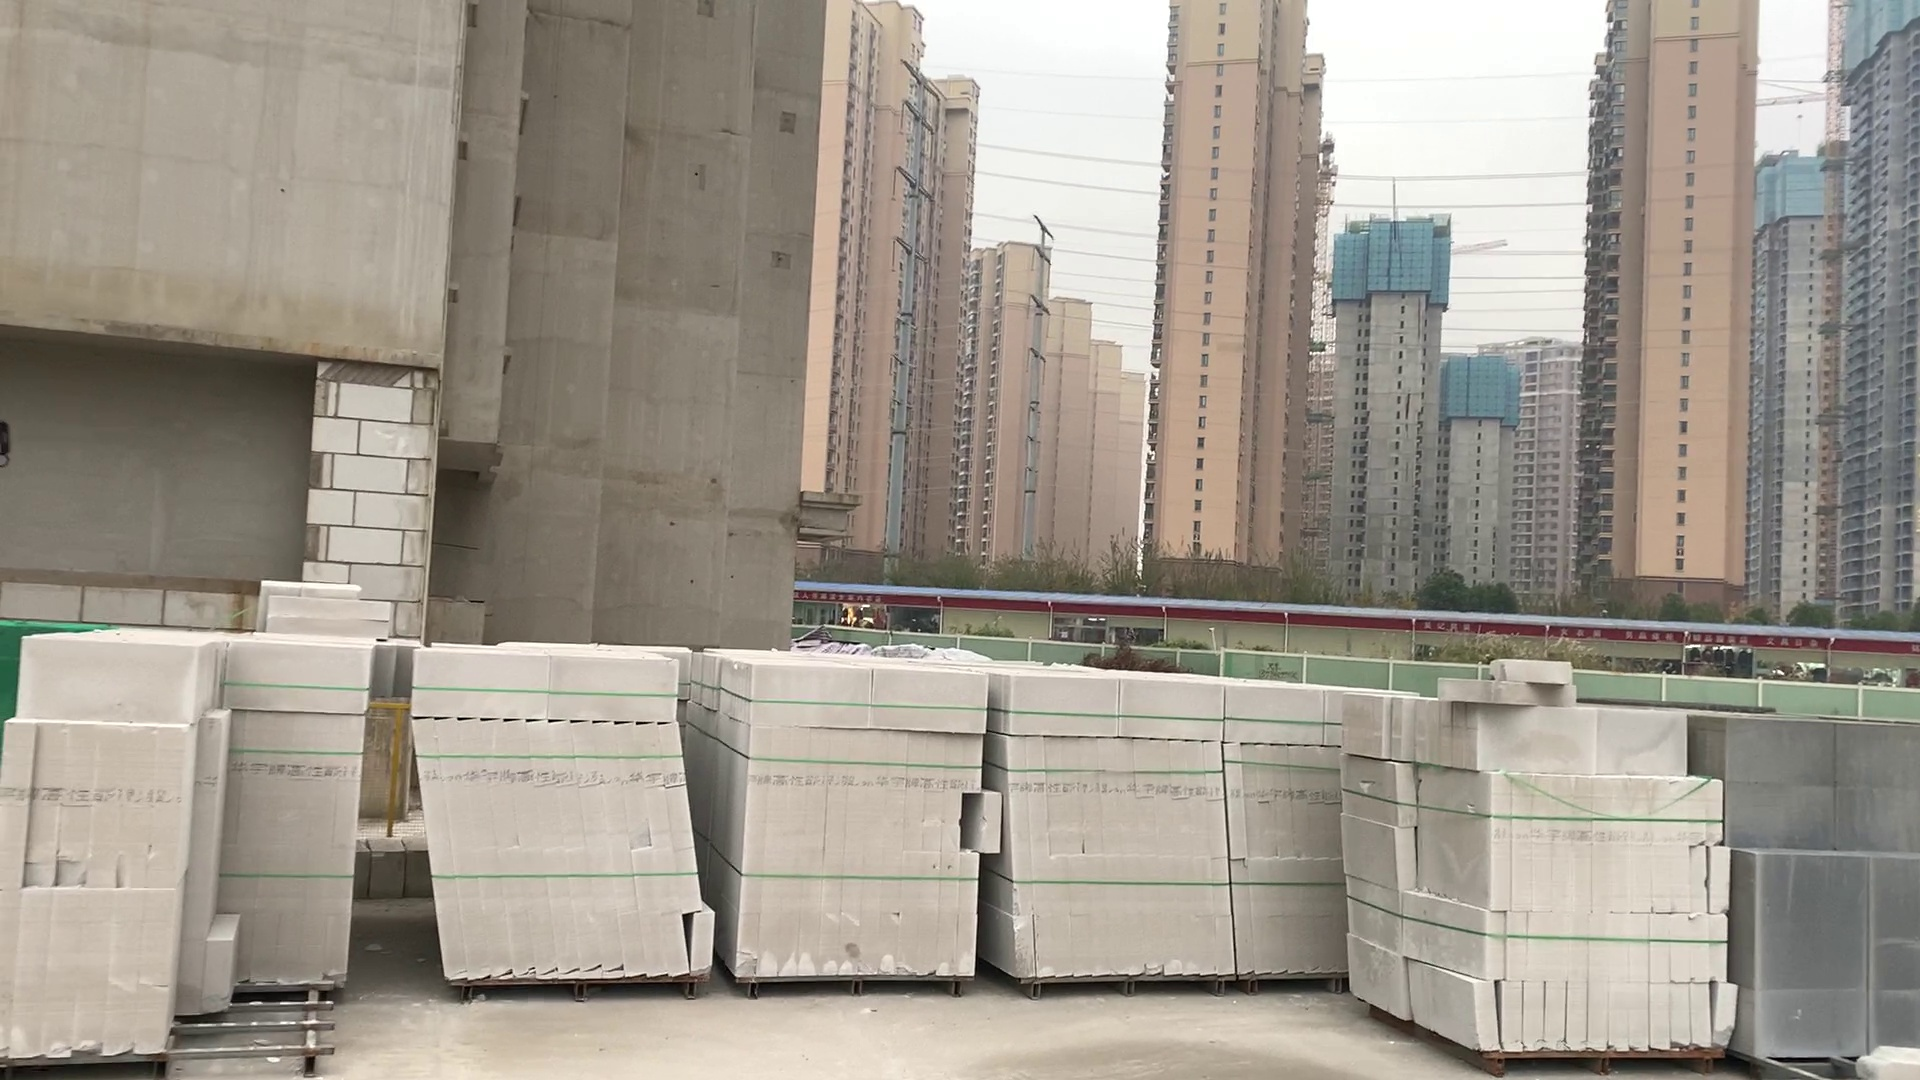brickwork: (1353, 691, 1724, 1069), (406, 646, 716, 1004), (15, 633, 203, 1058), (733, 673, 977, 996), (997, 673, 1234, 976), (1716, 712, 1920, 1063), (211, 644, 357, 988), (1233, 679, 1353, 977)
